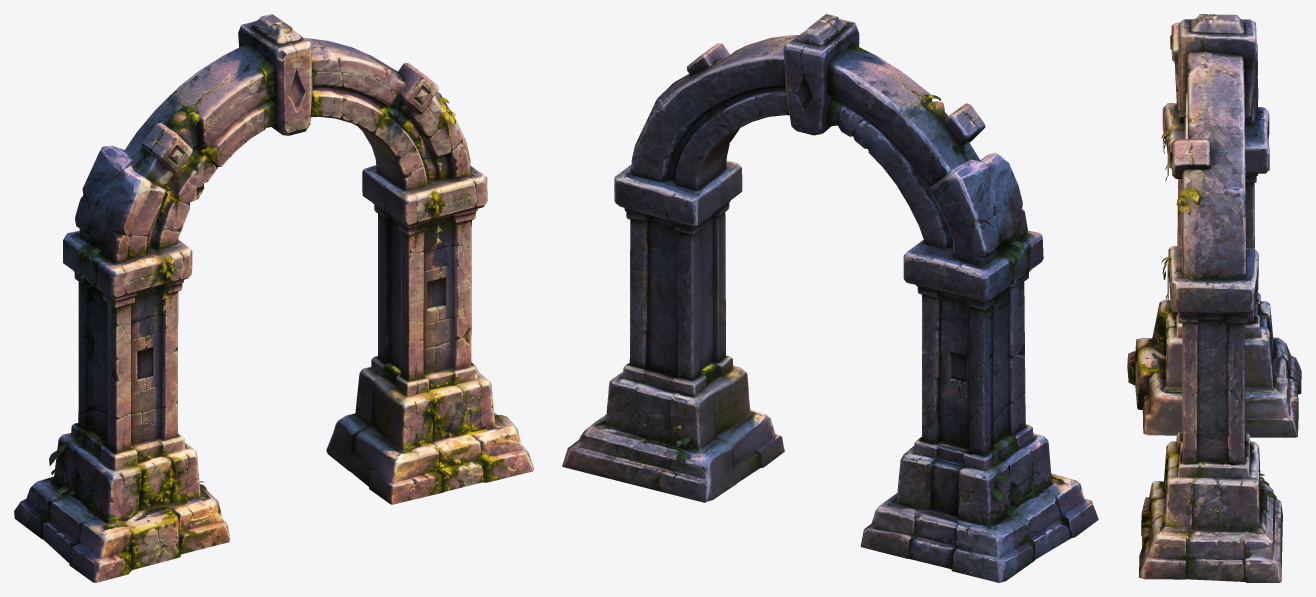
The model's file is stone+arch+ruin+3d+model.fbx.
3 views of the same model, side by side, from view 1: azimuth 30°, elevation 25°; view 2: azimuth 150°, elevation 25°; view 3: azimuth 270°, elevation 25° (orthographic). The views are drawn at different scales.
Parts seen in each view (by area): view 1: fa7b9f4d_9e52_4521_961f_a4fbe95ecb71; view 2: fa7b9f4d_9e52_4521_961f_a4fbe95ecb71; view 3: fa7b9f4d_9e52_4521_961f_a4fbe95ecb71.
Boxes of the visible parts, bbox=[...] form: fa7b9f4d_9e52_4521_961f_a4fbe95ecb71: bbox=[14, 14, 533, 582]; fa7b9f4d_9e52_4521_961f_a4fbe95ecb71: bbox=[562, 14, 1098, 582]; fa7b9f4d_9e52_4521_961f_a4fbe95ecb71: bbox=[1127, 14, 1301, 582].
Size of the model in its own units: 0.9995 by 0.9917 by 0.3413.
